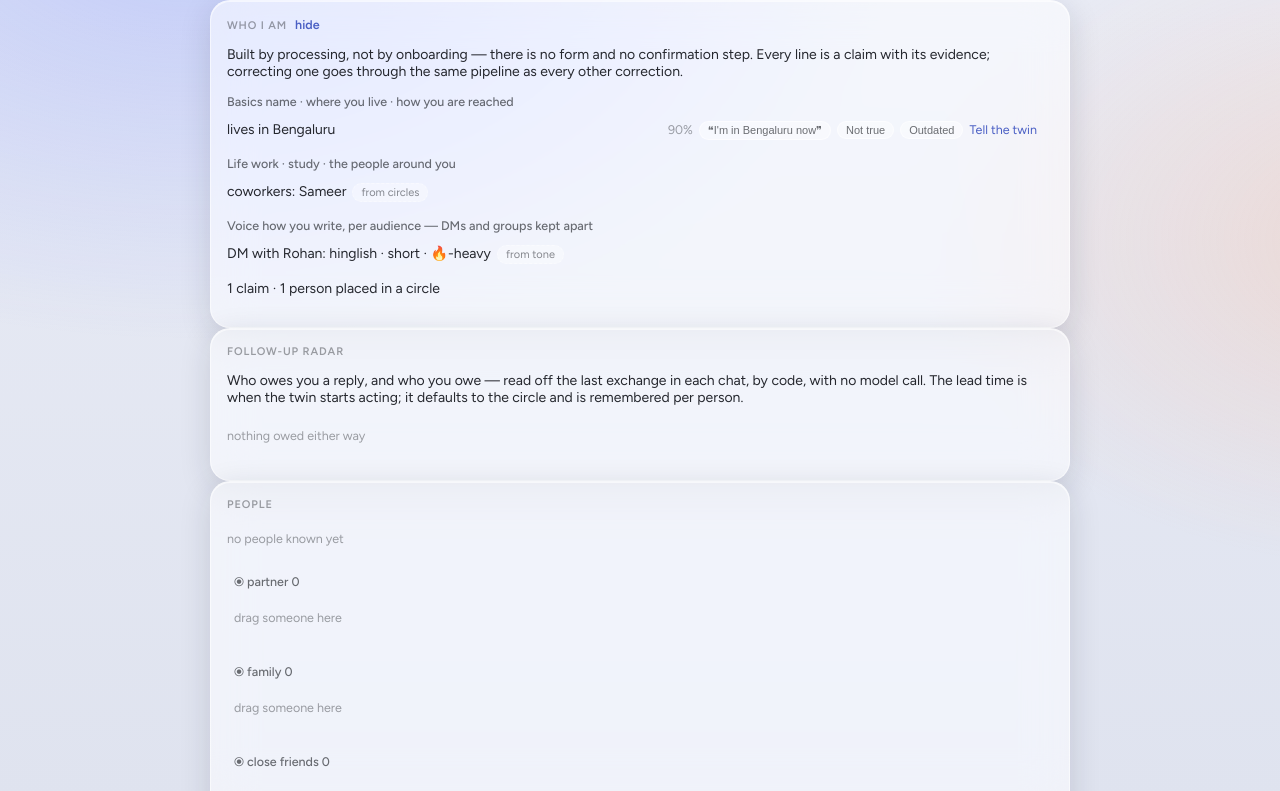
Test case: People carries both surfaces above the circles › a Who I am chip posts the claim correction through the one pipeline, with undo
Click the button with aria-label "not true lives in Bengaluru" at (866, 130), box x1=837 y1=121 x2=894 y2=139
(page scrolled)
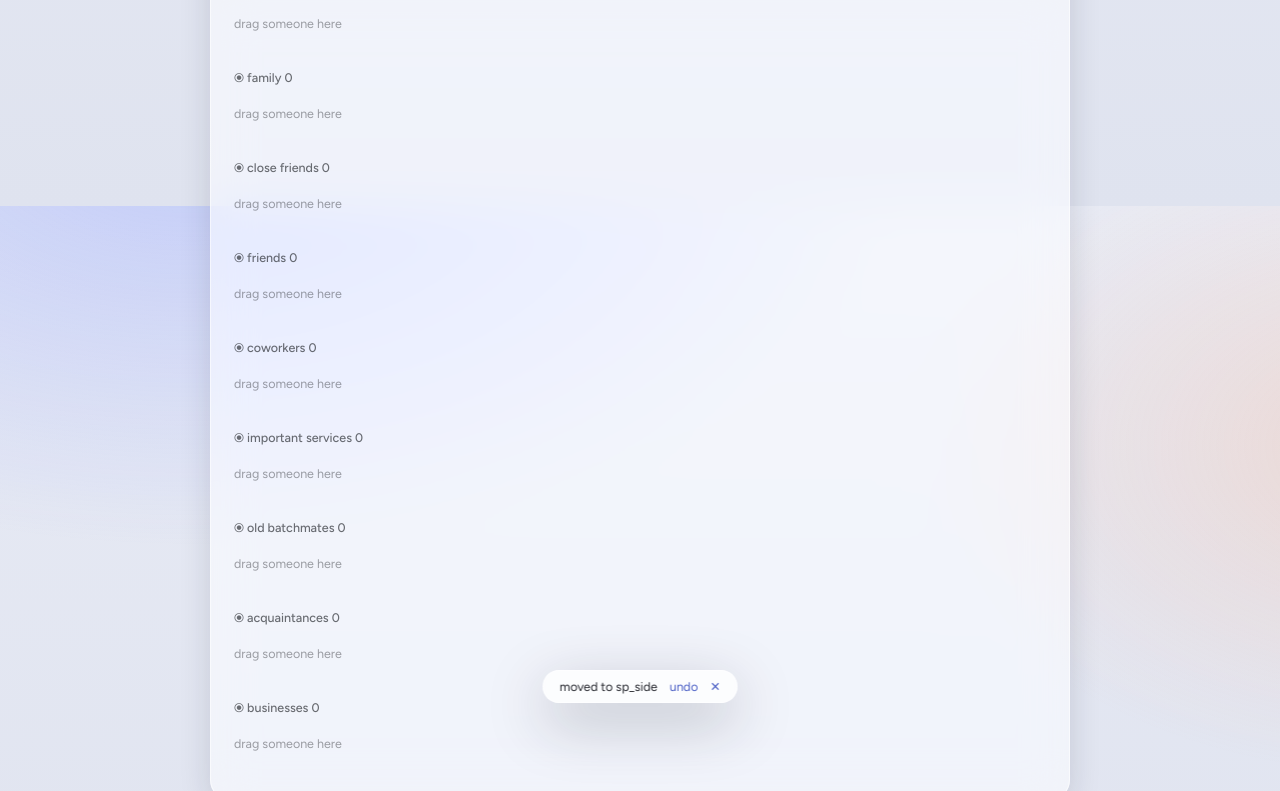
Result: the button "undo" is shown at x1=669 y1=678 x2=698 y2=694
